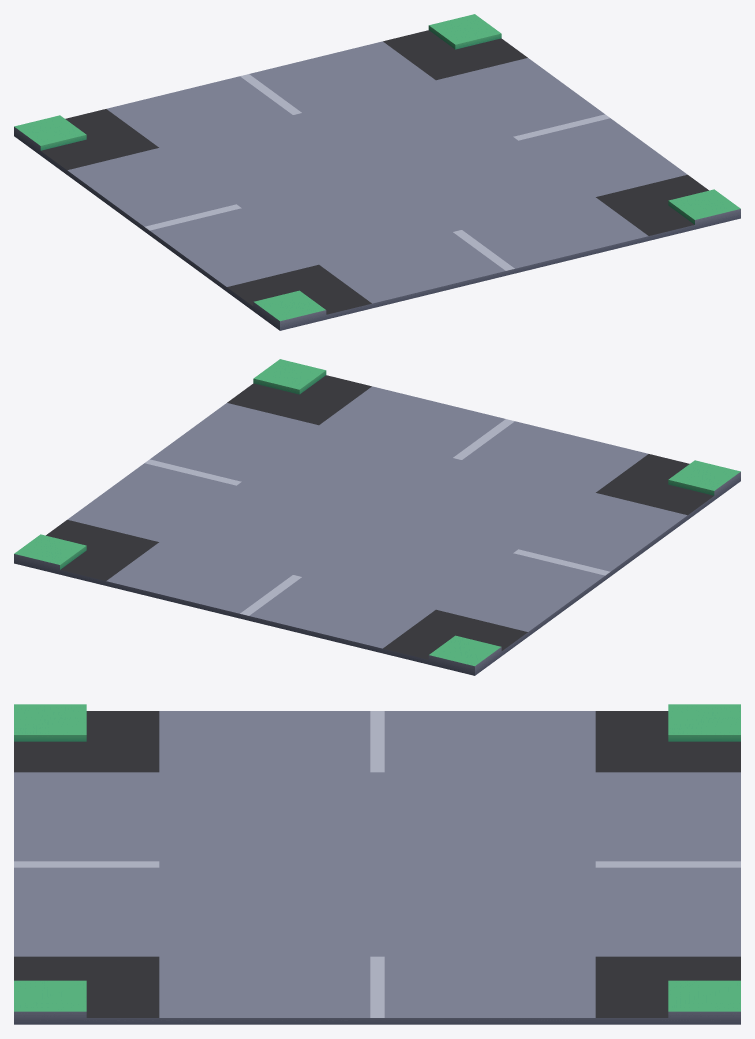
The model's file is road_crossroad.glb.
The picture shows the model from 3 angles, top to bottom: view 1: azimuth 30°, elevation 25°; view 2: azimuth 150°, elevation 25°; view 3: azimuth 270°, elevation 25°; orthographic projection. The views are drawn at different scales.
Parts seen in each view (by area): view 1: road-crossroad; view 2: road-crossroad; view 3: road-crossroad.
Part boxes in pixels (x1,y1,x2,y2): road-crossroad: [14, 14, 740, 330]; road-crossroad: [14, 359, 740, 675]; road-crossroad: [14, 704, 740, 1024].
Size of the model in its own units: 1 by 0.02 by 1.
Materials: 1 (1 with a texture image).
